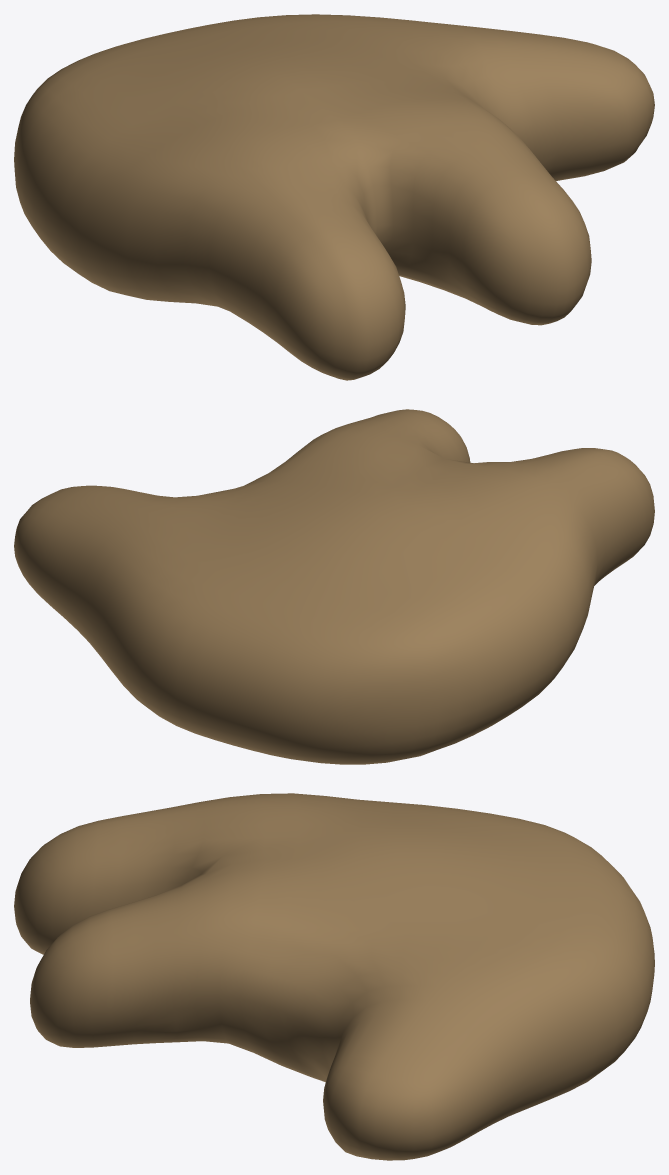
Rendered from right-hand.fbx.
3 views of the same model, one above another, from view 1: azimuth 30°, elevation 25°; view 2: azimuth 150°, elevation 25°; view 3: azimuth 270°, elevation 25° (orthographic). The views are drawn at different scales.
Parts seen in each view (by area): view 1: Right Hand; view 2: Right Hand; view 3: Right Hand.
Part boxes in pixels (bbox=[...]): Right Hand: bbox=[14, 14, 654, 380]; Right Hand: bbox=[14, 409, 654, 764]; Right Hand: bbox=[14, 793, 654, 1160].
Bounding box in the file's own units: 15.99 × 5.25 × 15.84.
